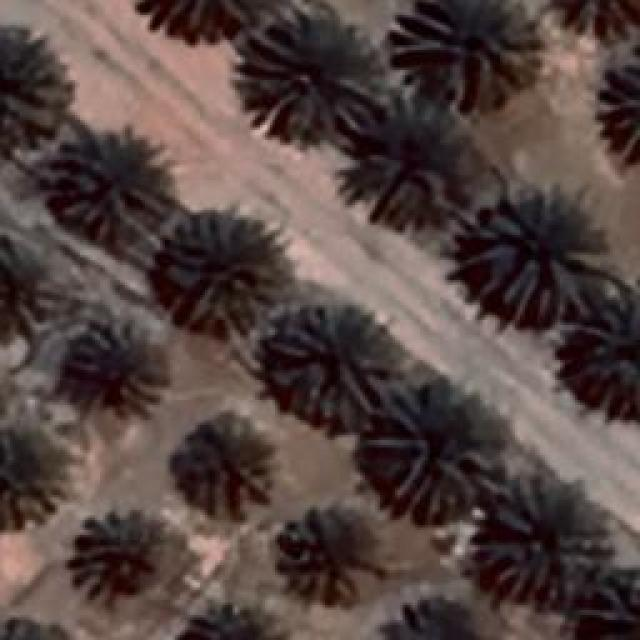PalmTree: (468, 188, 602, 322), (245, 15, 385, 143), (368, 390, 502, 520), (478, 478, 610, 600), (268, 304, 388, 428), (160, 215, 280, 335), (390, 0, 535, 92), (31, 102, 62, 482), (64, 136, 162, 242), (174, 408, 262, 510), (375, 115, 465, 213), (576, 286, 640, 418), (72, 320, 160, 402), (284, 511, 374, 584), (86, 521, 176, 594), (7, 50, 75, 130), (26, 98, 52, 289), (599, 50, 640, 168), (378, 598, 491, 640), (144, 0, 270, 36), (181, 603, 285, 640), (588, 571, 640, 640), (547, 0, 640, 37), (0, 613, 74, 640)
